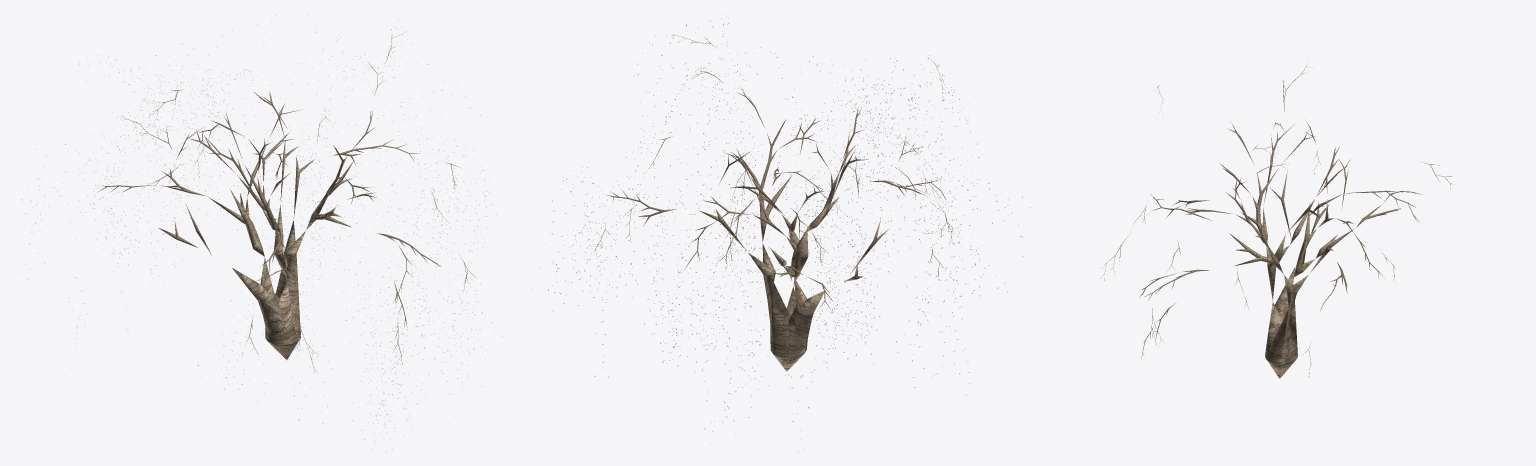
Rendered from sakura-forest-b.glb.
3 views of the same model, side by side, from view 1: azimuth 30°, elevation 25°; view 2: azimuth 150°, elevation 25°; view 3: azimuth 270°, elevation 25° (orthographic). The views are drawn at different scales.
Parts seen in each view (by area): view 1: 树干, 花位; view 2: 树干, 花位; view 3: 树干.
Boxes of the visible parts, <box> form: 树干: <box>97,33,475,370</box>; 花位: <box>14,15,502,451</box>; 树干: <box>594,35,953,371</box>; 花位: <box>532,14,1030,451</box>; 树干: <box>1101,64,1451,378</box>.
Bounding box in the file's own units: 10.74 × 9.5 × 10.87.
Materials: 2 (1 with a texture image).
